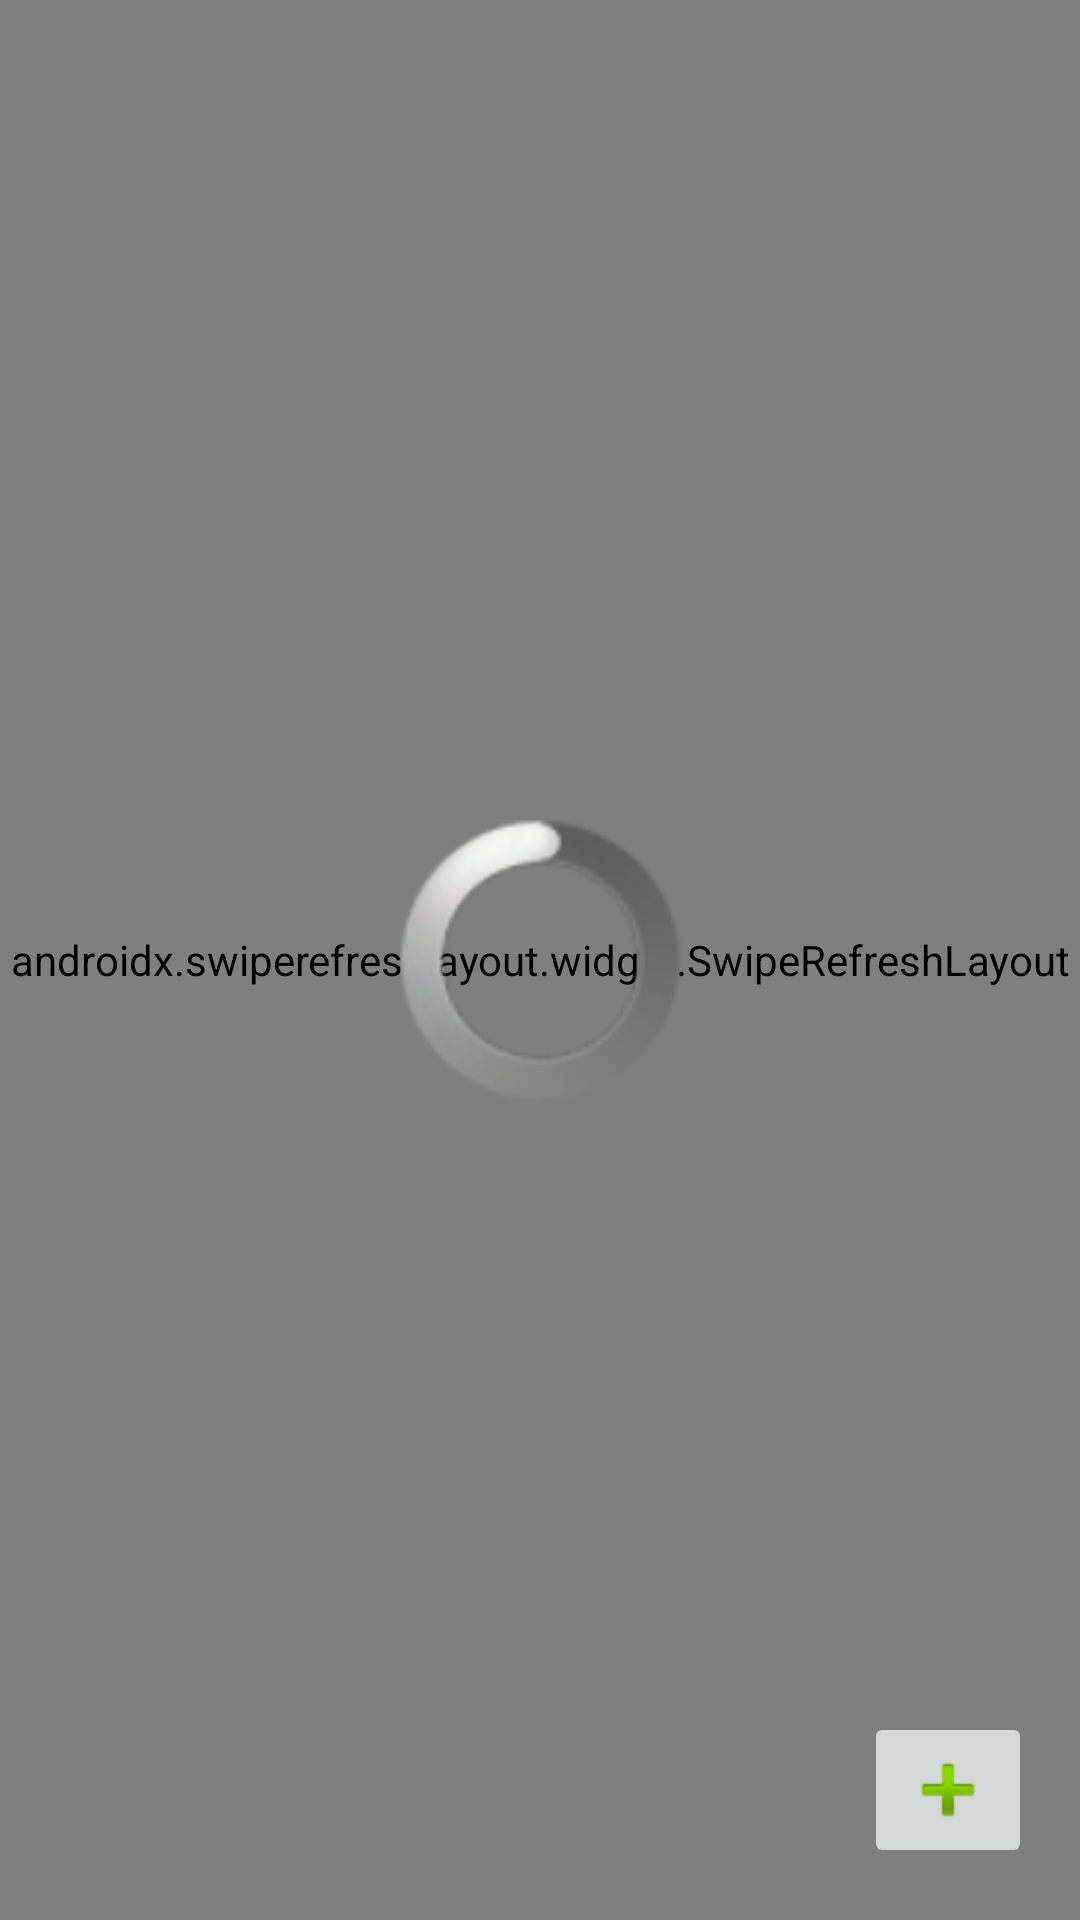

Locate icon controls on the screen. Image size 1080 × 1920, boxes as Rect(x1, y1, x2, y2).
add: Rect(876, 1730, 1020, 1850)
